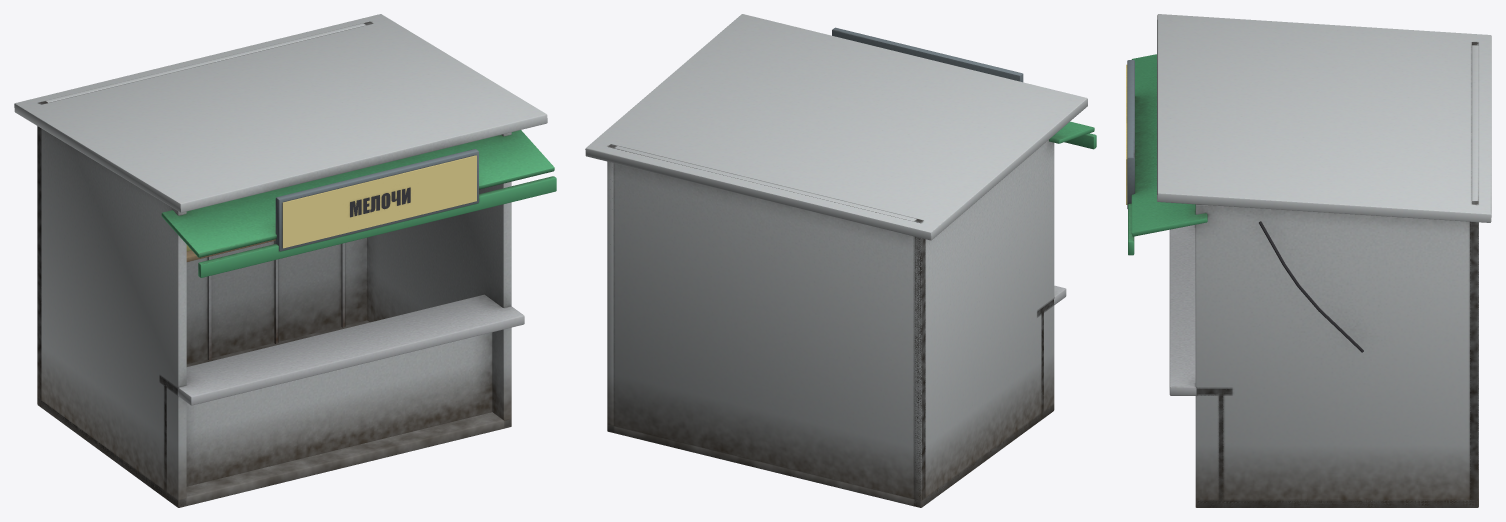
Rendered from g67_pz_kiosk_odds.glb.
3 renders of one model, left to right at view 1: azimuth 30°, elevation 25°; view 2: azimuth 150°, elevation 25°; view 3: azimuth 270°, elevation 25°, orthographic. The views are drawn at different scales.
Parts seen in each view (by area): view 1: g67_pz_kiosk_odds; view 2: g67_pz_kiosk_odds; view 3: g67_pz_kiosk_odds.
Boxes of the visible parts, left/top/right/bottom form: g67_pz_kiosk_odds: left=14, top=14, right=556, bottom=507; g67_pz_kiosk_odds: left=585, top=14, right=1096, bottom=507; g67_pz_kiosk_odds: left=1126, top=14, right=1491, bottom=507.
Size of the model in its own units: 3.36 by 2.77 by 2.84.
Materials: 1 (1 with a texture image).
